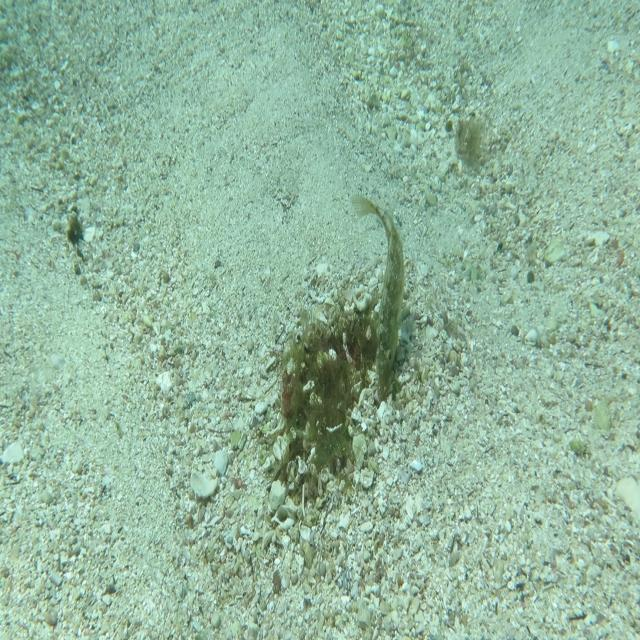NIP_IN: (349, 192, 416, 394)
core_nest: (337, 315, 377, 356)
nest: (270, 284, 406, 516)
vegetation: (449, 114, 474, 171), (63, 218, 86, 245)
